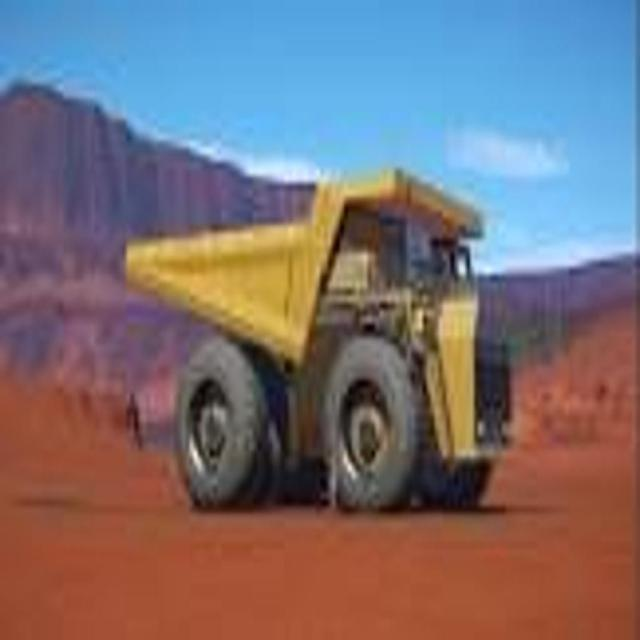dump_truck: (123, 155, 518, 520)
